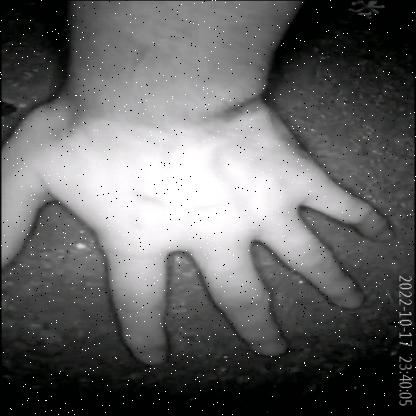hand: (0, 1, 395, 385)
